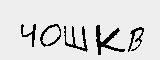В: (128, 27, 146, 55)
К: (94, 25, 124, 54)
О: (39, 24, 62, 47)
Ч: (18, 22, 37, 52)
Ш: (63, 24, 90, 55)
